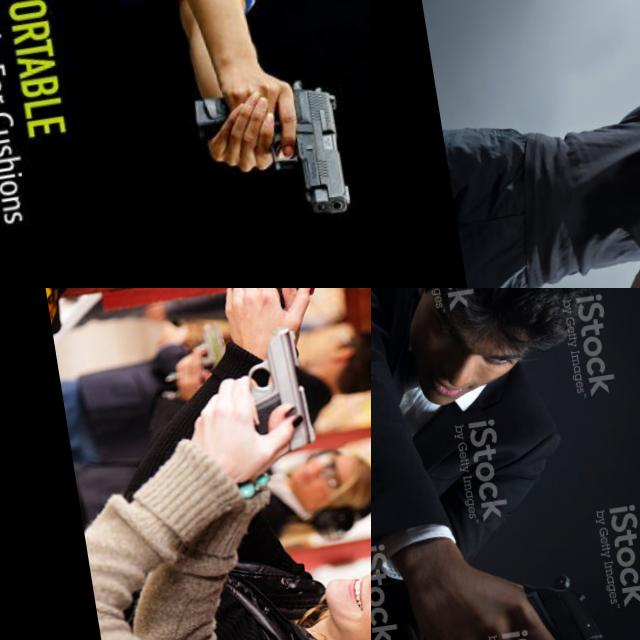handgun: (258, 72, 358, 226), (236, 322, 320, 462), (513, 560, 640, 640)
